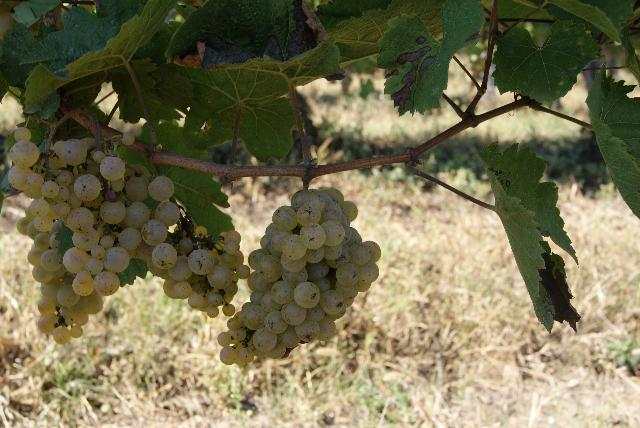grapes: (8, 126, 151, 344), (218, 188, 381, 365), (136, 201, 250, 318), (150, 176, 180, 244)
